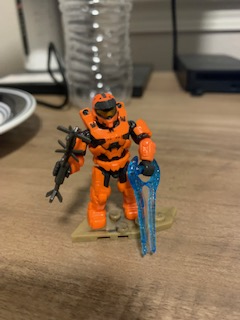spartan: (55, 90, 161, 230)
